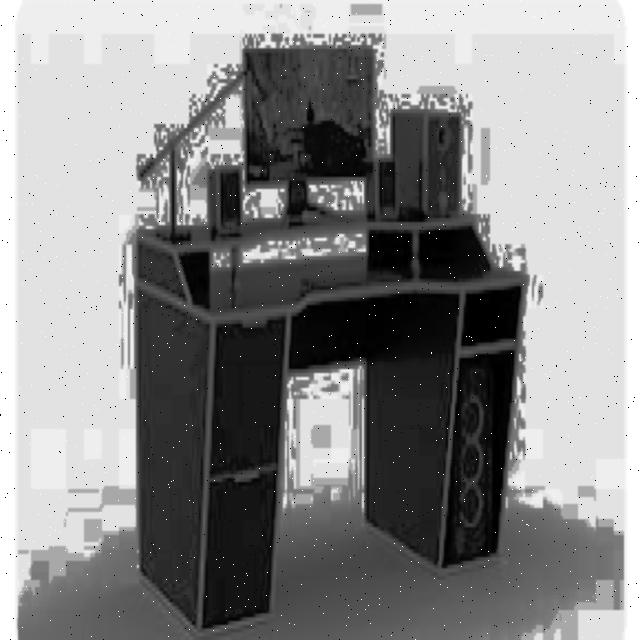table: (135, 211, 525, 636)
